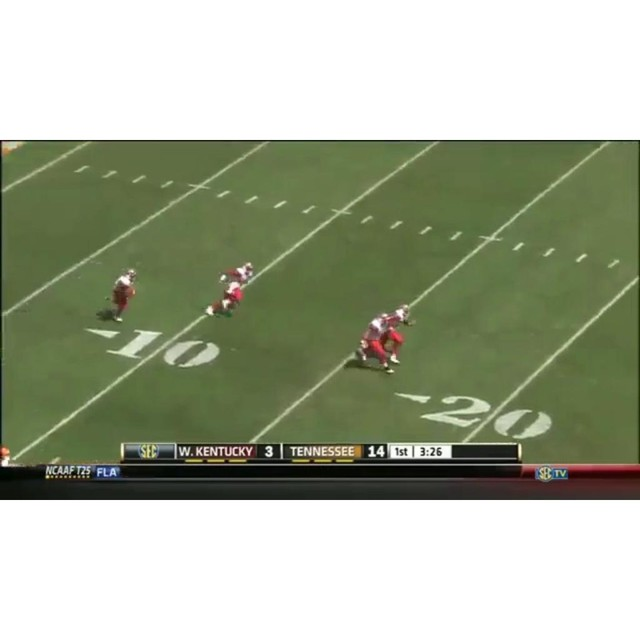american-football-player: (204, 263, 254, 317), (352, 314, 395, 374), (98, 268, 138, 323), (383, 304, 416, 364)
